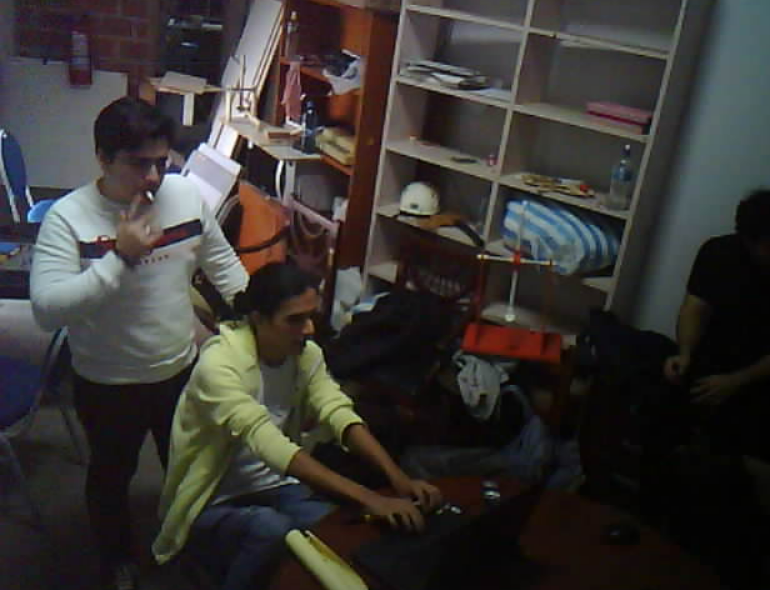person: (15, 102, 267, 558), (162, 272, 471, 590), (627, 136, 770, 481)
